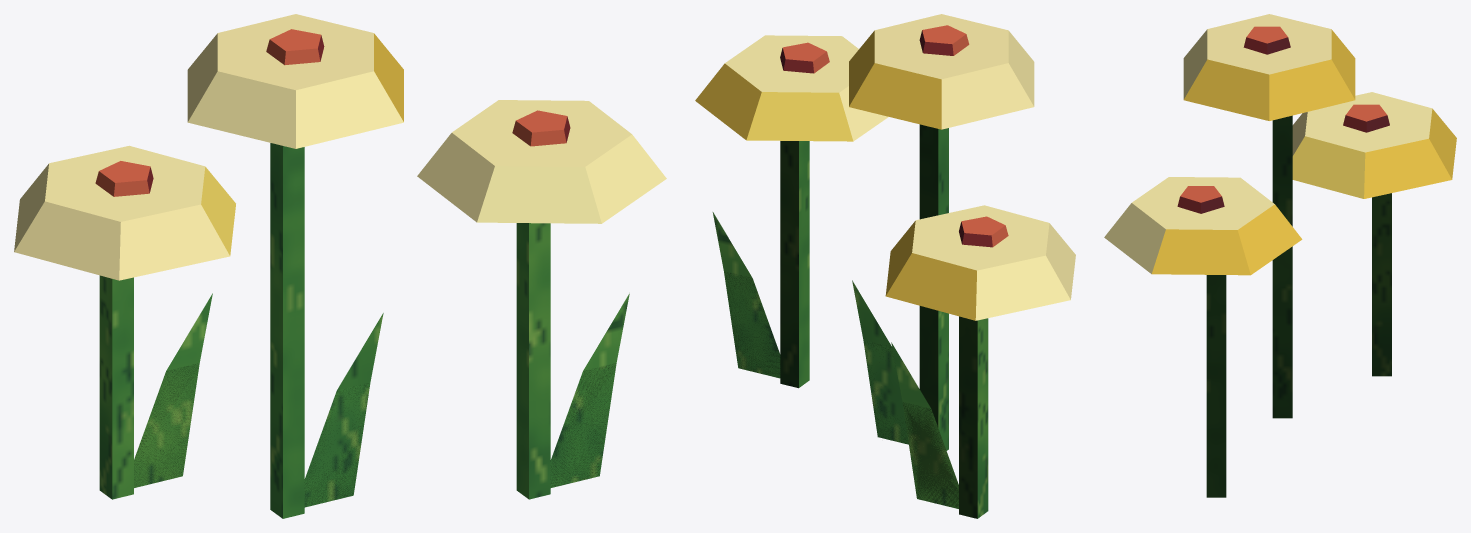
File: flower_yellow.glb
3 renders of one model, left to right at view 1: azimuth 30°, elevation 25°; view 2: azimuth 150°, elevation 25°; view 3: azimuth 270°, elevation 25°, orthographic. The views are drawn at different scales.
Parts seen in each view (by area): view 1: flower_yellow; view 2: flower_yellow; view 3: flower_yellow.
Part boxes in pixels (x1,y1,x2,y2): flower_yellow: [14, 14, 666, 518]; flower_yellow: [695, 14, 1075, 518]; flower_yellow: [1104, 14, 1456, 497].
Size of the model in its own units: 0.4299 by 0.382 by 0.32.
Materials: 5 (5 with a texture image).
